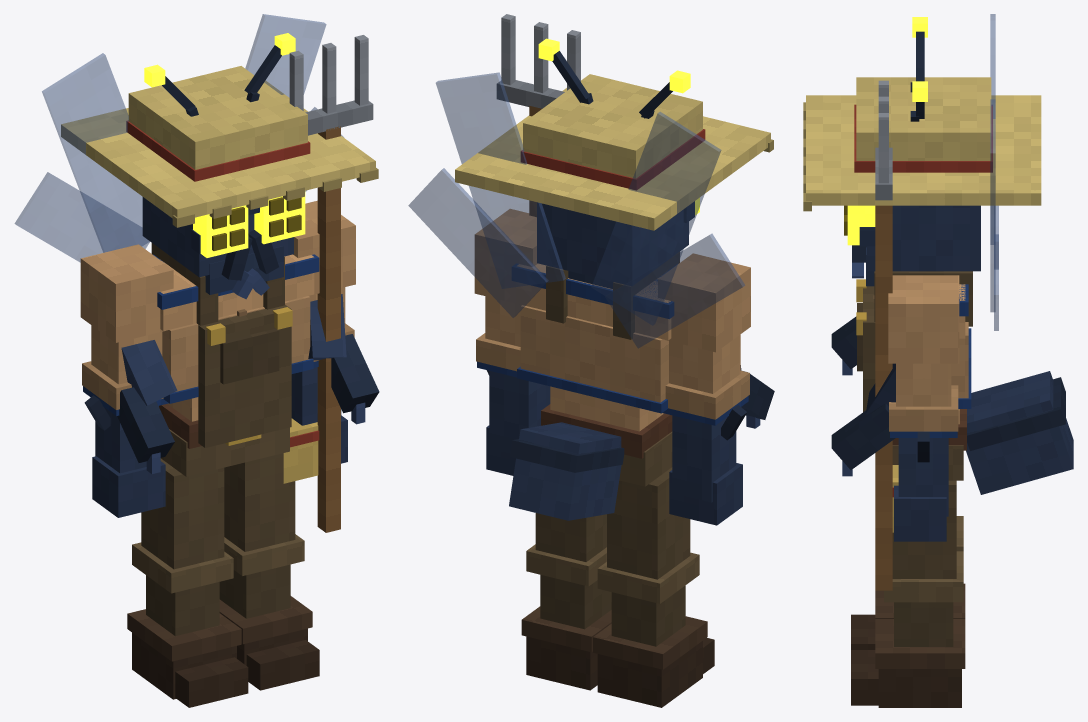
File: insectoid_fermier_v3.glb
3 views of the same model, side by side, from view 1: azimuth 30°, elevation 25°; view 2: azimuth 150°, elevation 25°; view 3: azimuth 270°, elevation 25° (orthographic).
Visible parts, largest first — view 1: Torso, Head, LegR, LegL, ArmR, HandL, ArmL; view 2: Torso, Head, ArmR, LegR, LegL, ArmL, HandL; view 3: Head, Torso, ArmL, LegL, HandL, LegR.
Boxes of the visible parts, x1=… form: Torso: x1=14, y1=14, x2=379, y2=483; Head: x1=61, y1=33, x2=378, y2=299; LegR: x1=127, y1=458, x2=248, y2=707; LegL: x1=219, y1=453, x2=319, y2=690; ArmR: x1=80, y1=244, x2=173, y2=517; HandL: x1=289, y1=35, x2=373, y2=532; ArmL: x1=291, y1=200, x2=355, y2=463; Torso: x1=408, y1=72, x2=774, y2=520; Head: x1=455, y1=38, x2=773, y2=288; ArmR: x1=658, y1=253, x2=750, y2=525; LegR: x1=593, y1=467, x2=714, y2=707; LegL: x1=521, y1=513, x2=611, y2=690; ArmL: x1=474, y1=209, x2=550, y2=475; HandL: x1=496, y1=14, x2=580, y2=216; Head: x1=803, y1=17, x2=1041, y2=286; Torso: x1=831, y1=14, x2=1073, y2=532; ArmL: x1=888, y1=275, x2=959, y2=541; LegL: x1=851, y1=480, x2=965, y2=707; HandL: x1=875, y1=80, x2=892, y2=590; LegR: x1=851, y1=516, x2=965, y2=649.
Bounding box in the file's own units: 1.12 × 1.98 × 0.7802.
37 materials, 37 textured.
